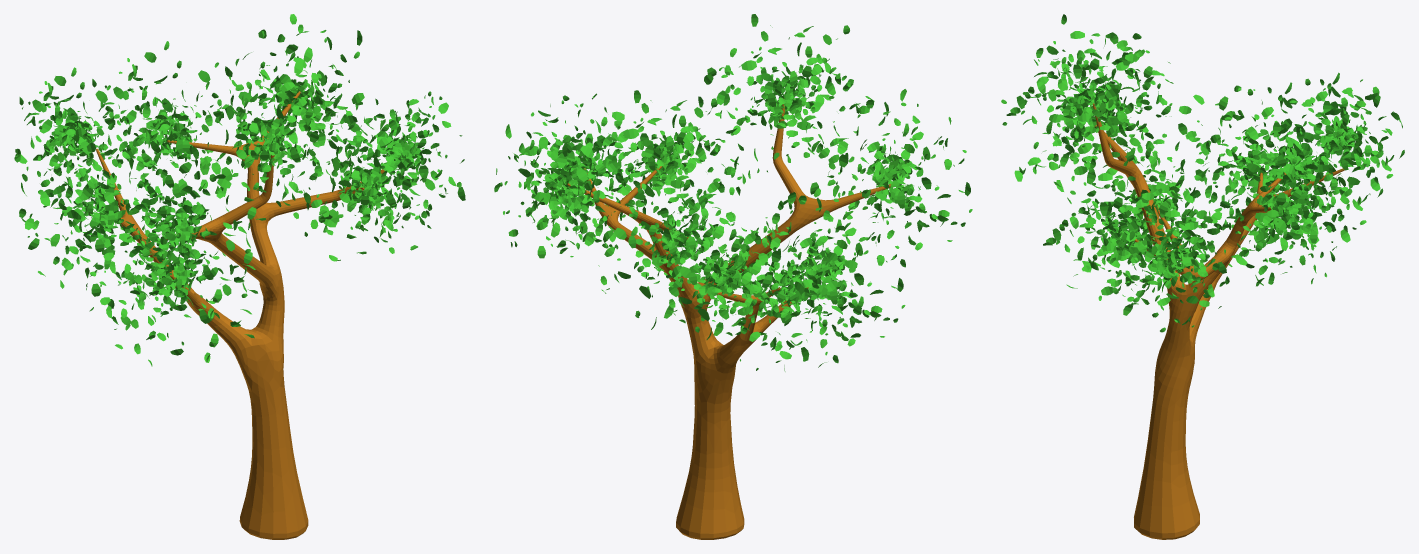
Rendered from Tree.fbx.
3 views of the same model, side by side, from view 1: azimuth 30°, elevation 25°; view 2: azimuth 150°, elevation 25°; view 3: azimuth 270°, elevation 25° (orthographic). The views are drawn at different scales.
Visible parts, largest first — view 1: Cube; view 2: Cube; view 3: Cube.
Boxes of the visible parts, box(x1,y1,x2,y2) form: Cube: box(96, 91, 384, 539); Cube: box(567, 98, 890, 539); Cube: box(1093, 103, 1344, 539).
Size of the model in its own units: 2007 by 2391 by 1843.
